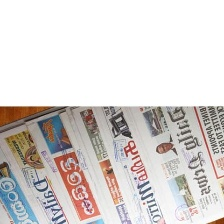news_paper: (54, 105, 158, 224), (89, 104, 176, 224), (22, 105, 107, 224), (0, 105, 85, 224), (119, 104, 203, 224), (159, 103, 224, 224), (0, 133, 46, 223)
